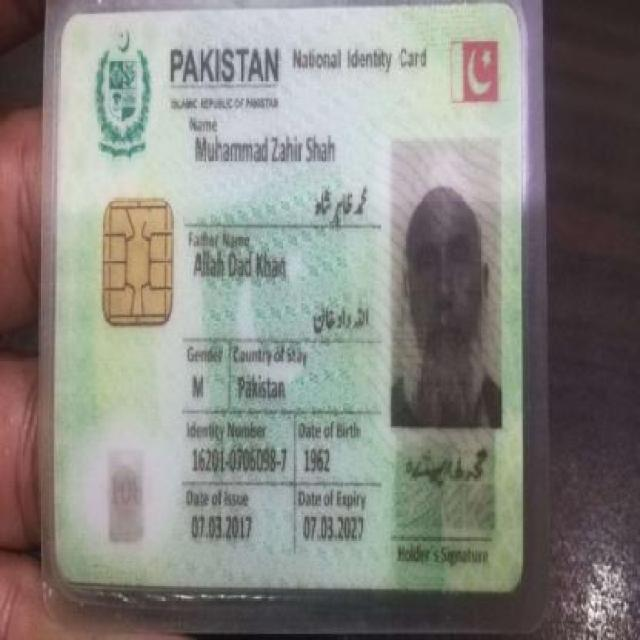Front: (37, 6, 532, 603)
